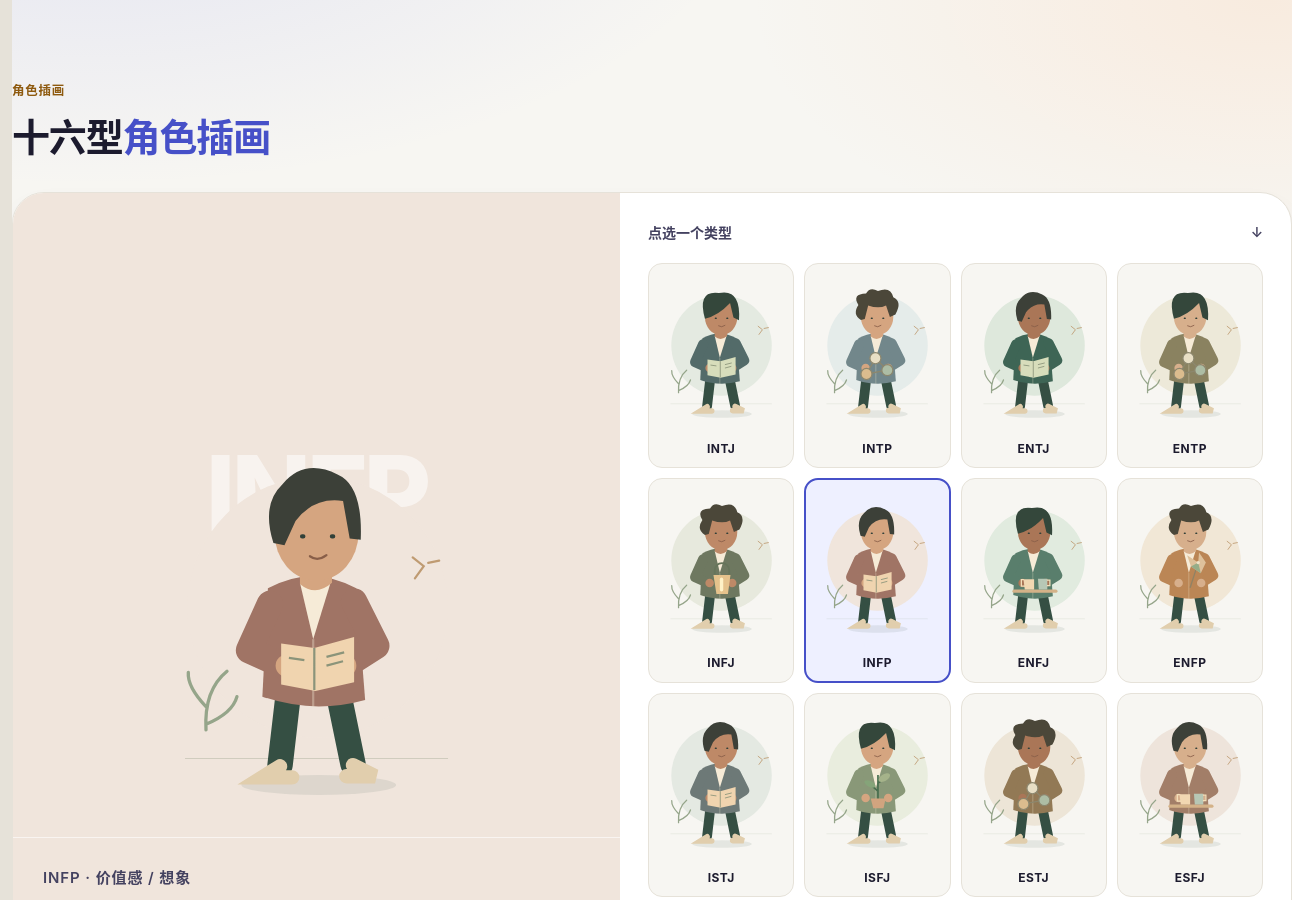
it: 人格插画：装饰与结果分开 › 提供全部 16 型，可切换生活速写，明确不是测评结果
Click the button "INTJ". click: (721, 366)
box: [648,263,794,468]
(page scrolled)
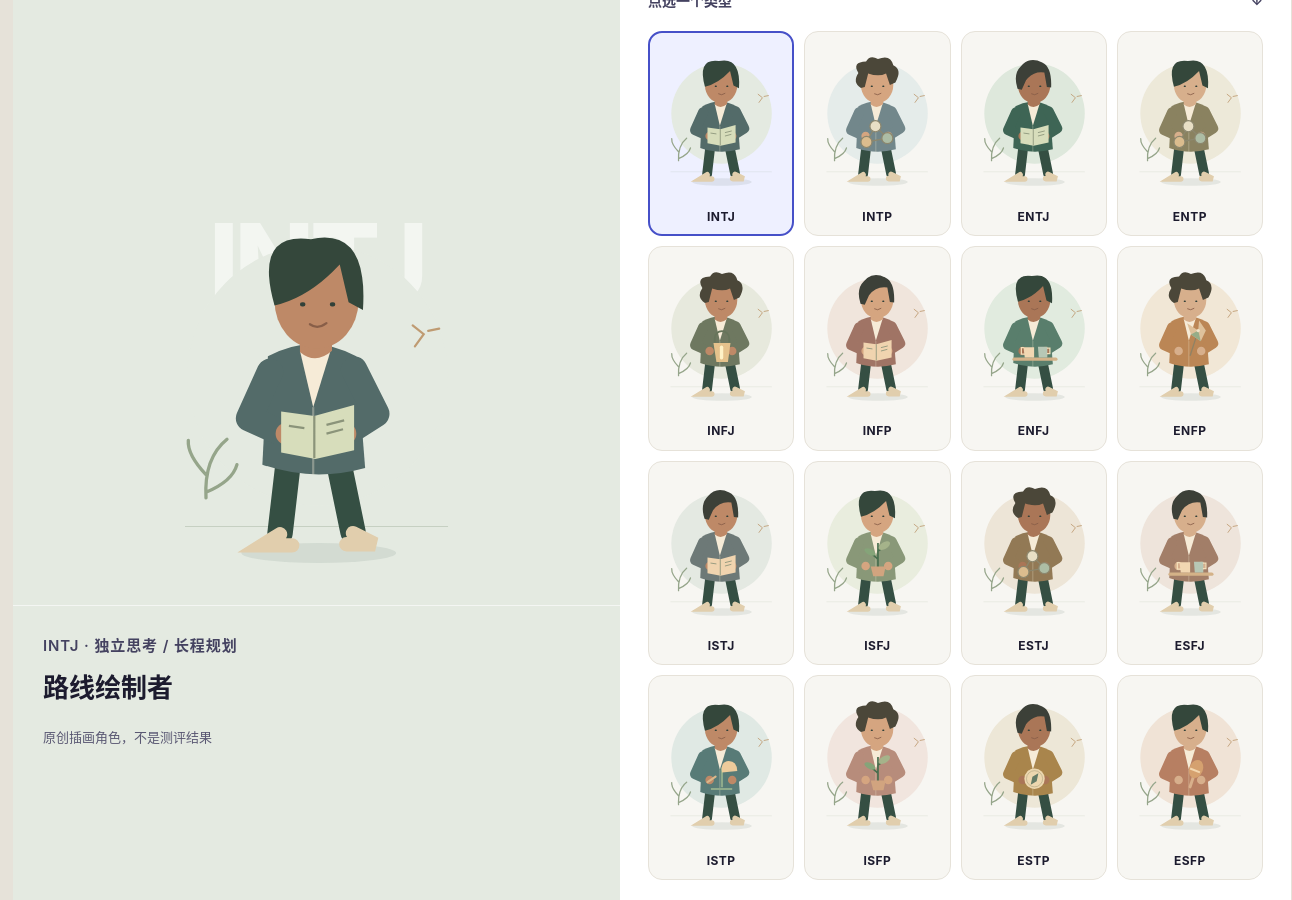
expect the heading "路线绘制者" is shown: met, box [43,672,173,703]
